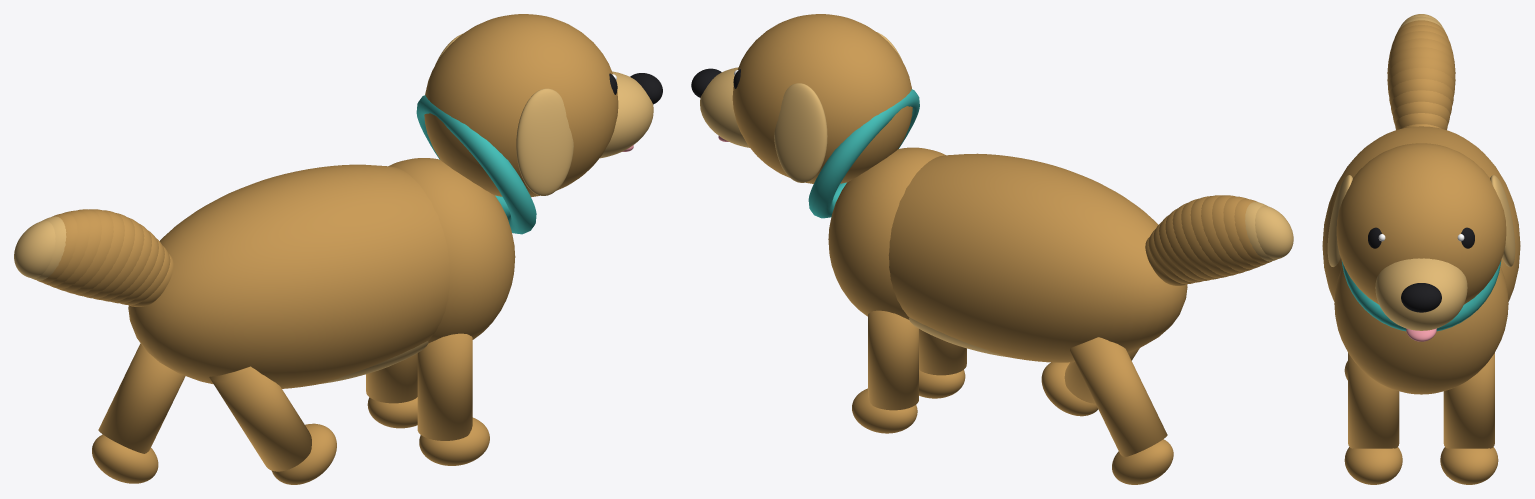
Rendered from golden.glb.
The picture shows the model from 3 angles, left to right: view 1: azimuth 30°, elevation 25°; view 2: azimuth 150°, elevation 25°; view 3: azimuth 270°, elevation 25°; orthographic projection. The views are drawn at different scales.
Visible parts, largest first — view 1: Body, Head, Chest, Leg3, Leg1, Leg2, Ear-1, Collar, Muzzle, Paw2, Leg0, Paw1 (+12 smaller); view 2: Body, Head, Chest, Leg2, Leg0, Ear1, Collar, Muzzle, Paw2, Leg1, Paw0, Tail13 (+12 smaller); view 3: Head, Chest, Muzzle, Body, Leg0, Leg1, Paw0, Paw1, Collar, Nose, Ear1, Ear-1 (+14 smaller).
Boxes of the visible parts, x1=… form: Body: x1=128, y1=164, x2=450, y2=388; Head: x1=424, y1=14, x2=618, y2=197; Chest: x1=388, y1=158, x2=515, y2=343; Leg3: x1=209, y1=366, x2=311, y2=471; Leg1: x1=417, y1=333, x2=472, y2=440; Leg2: x1=98, y1=343, x2=185, y2=453; Ear-1: x1=516, y1=88, x2=573, y2=195; Collar: x1=416, y1=95, x2=536, y2=234; Muzzle: x1=600, y1=71, x2=653, y2=158; Paw2: x1=92, y1=434, x2=158, y2=483; Leg0: x1=366, y1=353, x2=417, y2=403; Paw1: x1=419, y1=417, x2=489, y2=465; Body: x1=888, y1=153, x2=1187, y2=362; Head: x1=732, y1=14, x2=912, y2=183; Chest: x1=828, y1=147, x2=945, y2=319; Leg2: x1=1070, y1=337, x2=1167, y2=457; Leg0: x1=868, y1=310, x2=918, y2=410; Ear1: x1=774, y1=83, x2=827, y2=182; Collar: x1=808, y1=89, x2=919, y2=218; Muzzle: x1=700, y1=67, x2=749, y2=147; Paw2: x1=1112, y1=439, x2=1173, y2=484; Leg1: x1=919, y1=329, x2=966, y2=375; Paw0: x1=852, y1=388, x2=917, y2=433; Tail13: x1=1255, y1=205, x2=1293, y2=259; Head: x1=1336, y1=143, x2=1506, y2=304; Chest: x1=1334, y1=266, x2=1508, y2=394; Muzzle: x1=1375, y1=258, x2=1467, y2=330; Body: x1=1322, y1=126, x2=1520, y2=301; Leg0: x1=1443, y1=353, x2=1494, y2=448; Leg1: x1=1348, y1=353, x2=1399, y2=448; Paw0: x1=1440, y1=447, x2=1498, y2=484; Paw1: x1=1344, y1=447, x2=1402, y2=484; Collar: x1=1341, y1=260, x2=1501, y2=331; Nose: x1=1401, y1=283, x2=1441, y2=312; Ear1: x1=1490, y1=175, x2=1515, y2=266; Ear-1: x1=1327, y1=175, x2=1352, y2=266.
Bounding box in the file's own units: 2.02 × 1.2 × 0.58.
